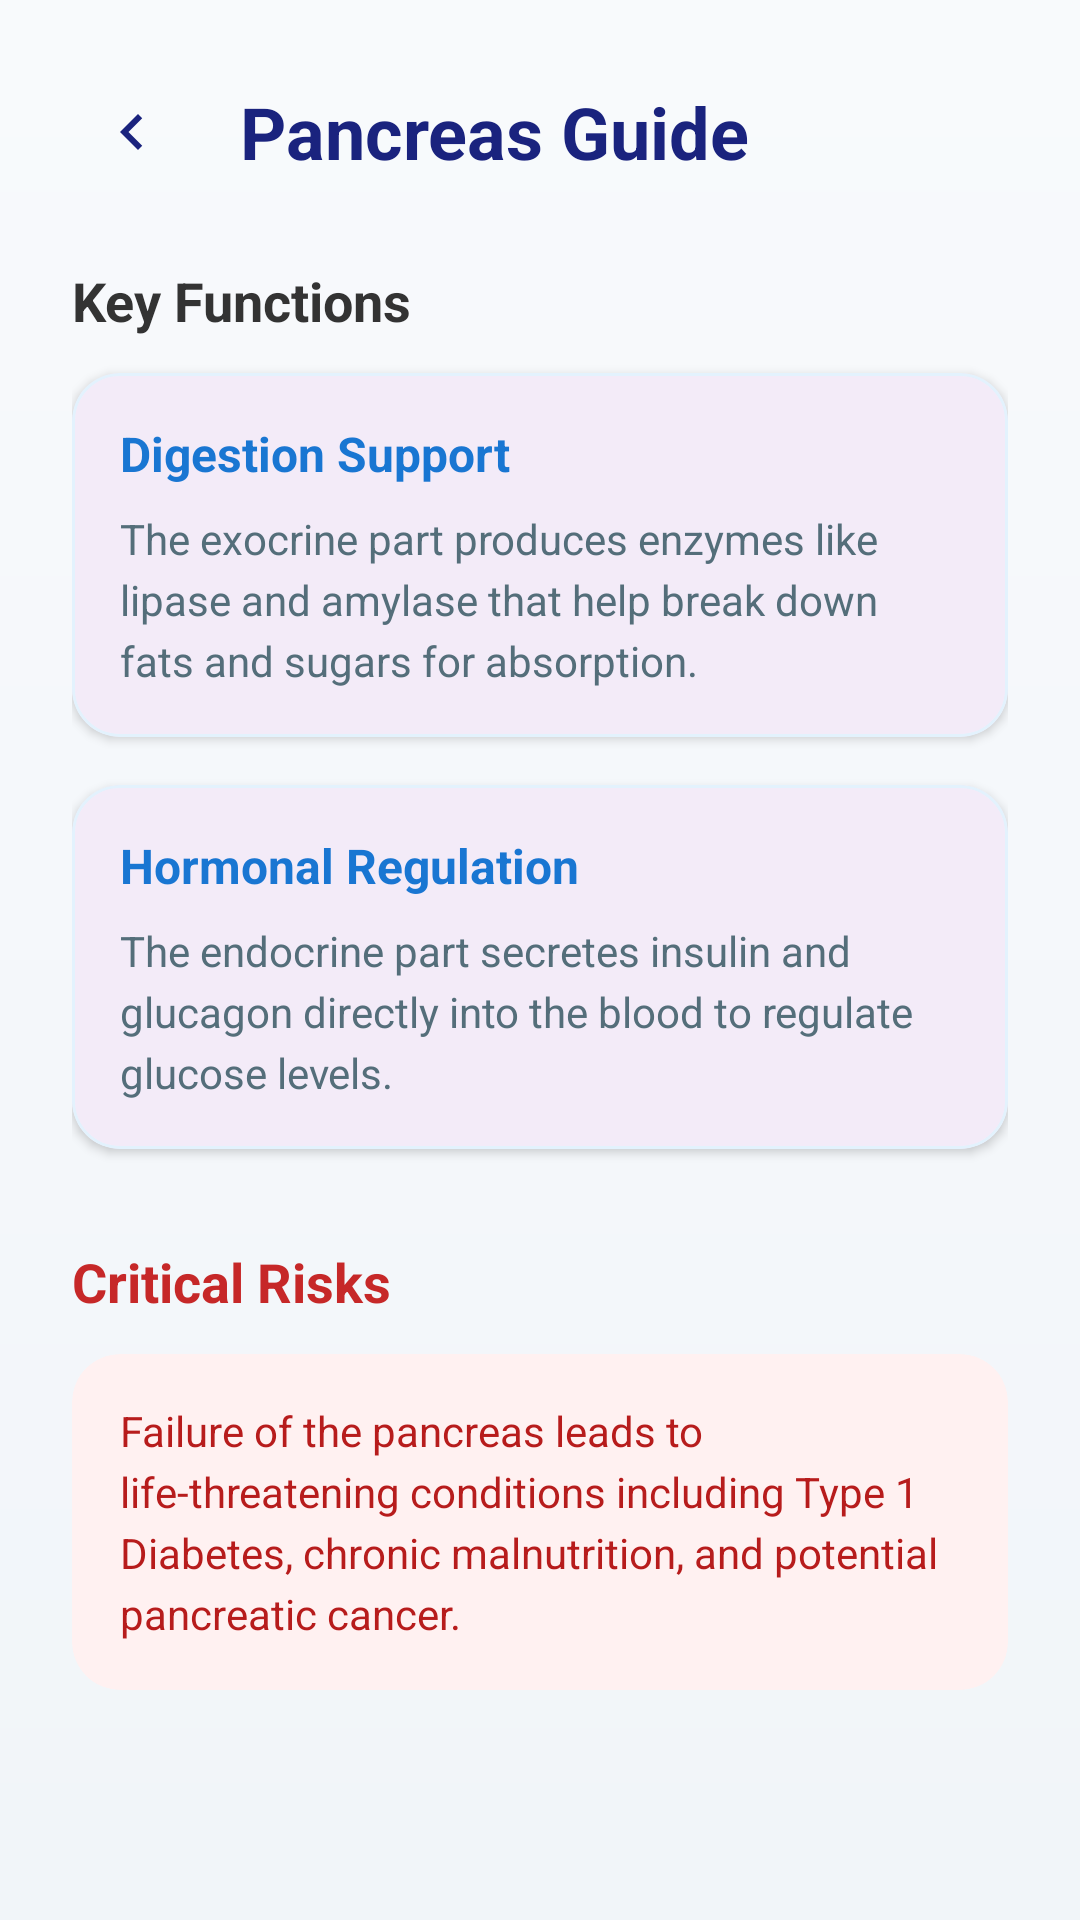

Screen size 1080*1920. Icon name, then its box in pixels as (x1, y1, x2, y2):
chevron left: (120, 114, 142, 150)
